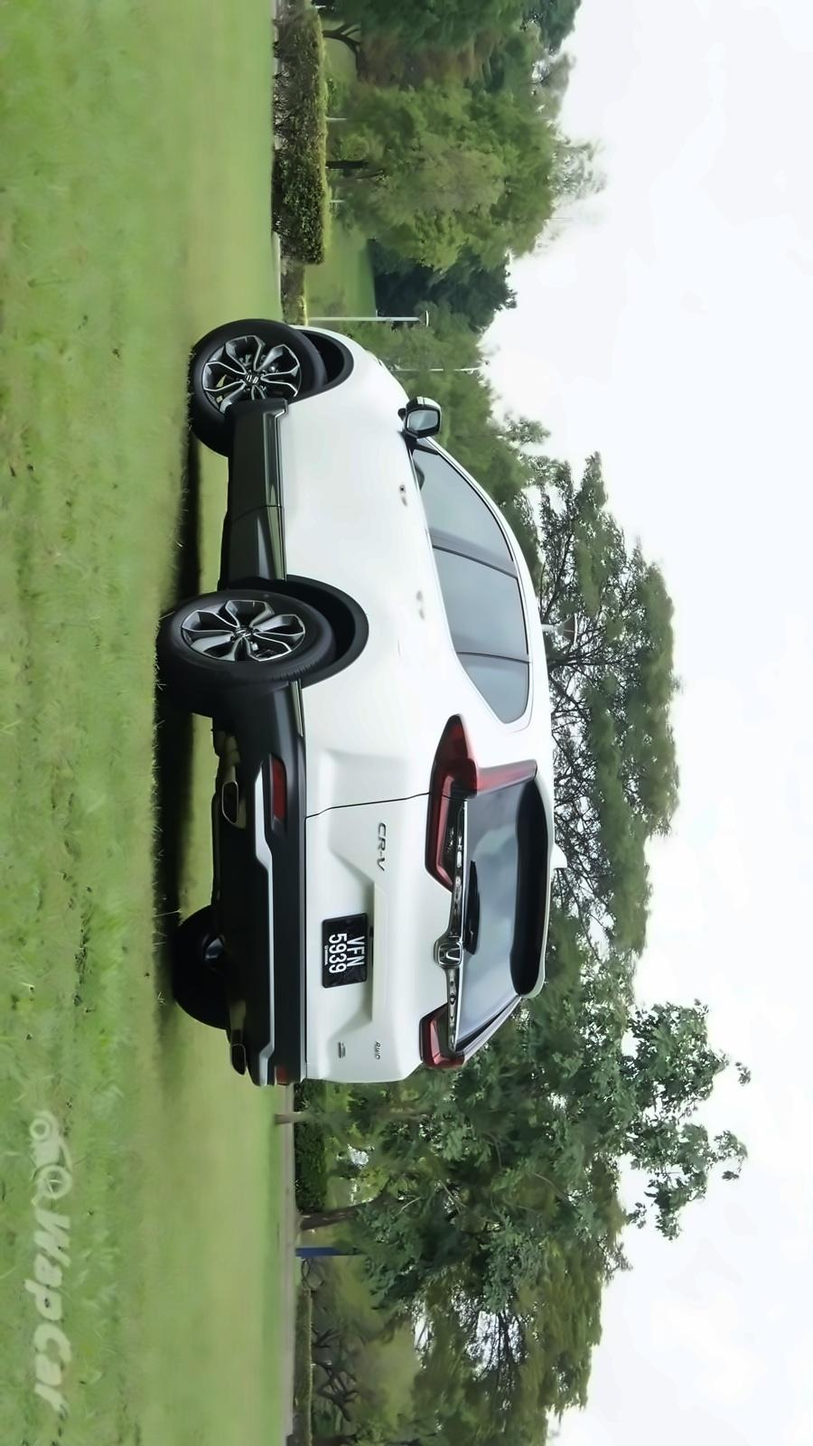Car boot: (264, 784, 567, 1106)
Fender - -F-L-: (242, 312, 442, 425)
Fender - -R-L-: (225, 558, 553, 755)
Passenger-s door - -F-L-: (217, 393, 577, 586)
Passenger-s door - -R-L-: (190, 500, 559, 680)
Rear bumper: (201, 680, 330, 1104)
Rear light - -L-: (418, 712, 491, 901)
Rear light - -R-: (418, 1001, 466, 1076)
Side bumper - -L-: (201, 375, 296, 582)
Side mirror - -L-: (384, 391, 442, 449)
